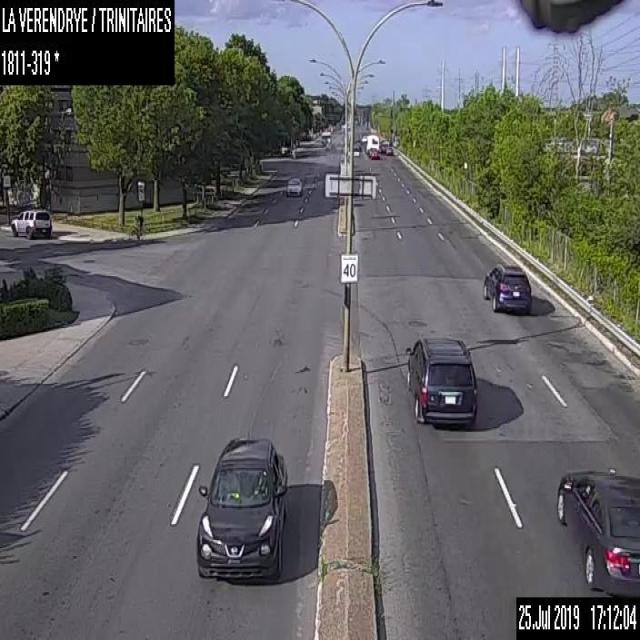bus: (365, 134, 378, 154)
cyclist: (128, 213, 152, 245)
vehicle: (194, 434, 287, 582), (555, 463, 639, 596), (404, 333, 477, 427), (481, 261, 532, 312), (10, 207, 52, 239), (285, 176, 302, 195), (318, 128, 333, 147), (369, 148, 378, 158), (353, 140, 361, 150), (384, 145, 392, 154), (380, 142, 387, 151), (360, 134, 366, 142)
